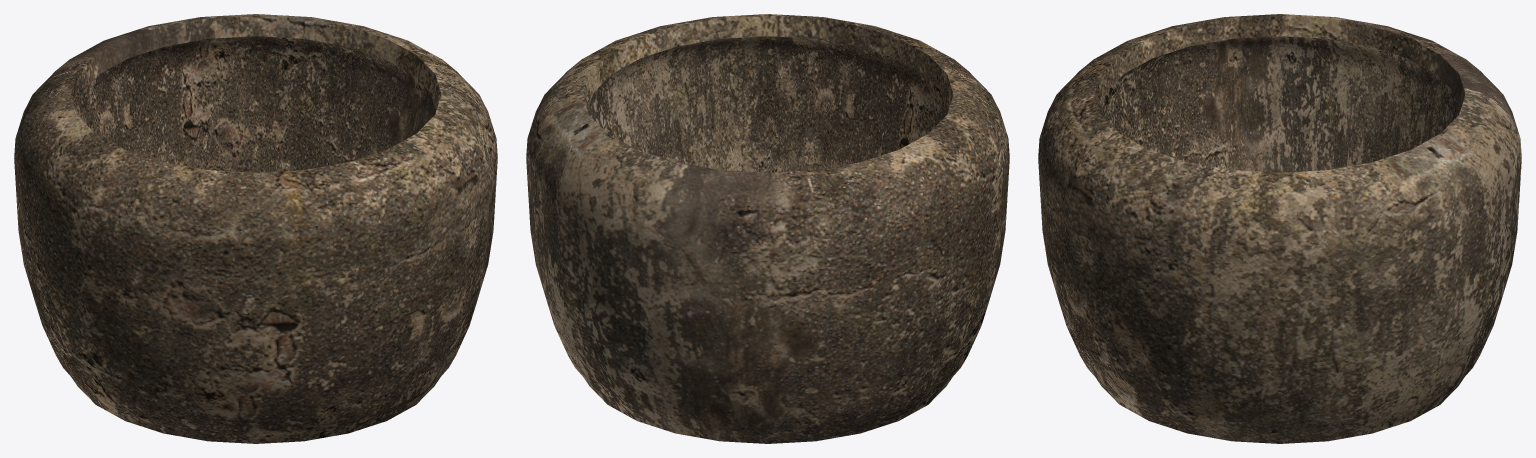
File: materials_5_pot_9.fbx
The picture shows the model from 3 angles, left to right: view 1: azimuth 30°, elevation 25°; view 2: azimuth 150°, elevation 25°; view 3: azimuth 270°, elevation 25°; orthographic projection.
Parts seen in each view (by area): view 1: materials_5_pot_9; view 2: materials_5_pot_9; view 3: materials_5_pot_9.
Boxes of the visible parts, x1=… form: materials_5_pot_9: x1=14, y1=14, x2=497, y2=443; materials_5_pot_9: x1=526, y1=14, x2=1009, y2=443; materials_5_pot_9: x1=1038, y1=14, x2=1521, y2=443.
Bounding box in the file's own units: 36.12 × 22.37 × 36.12.
